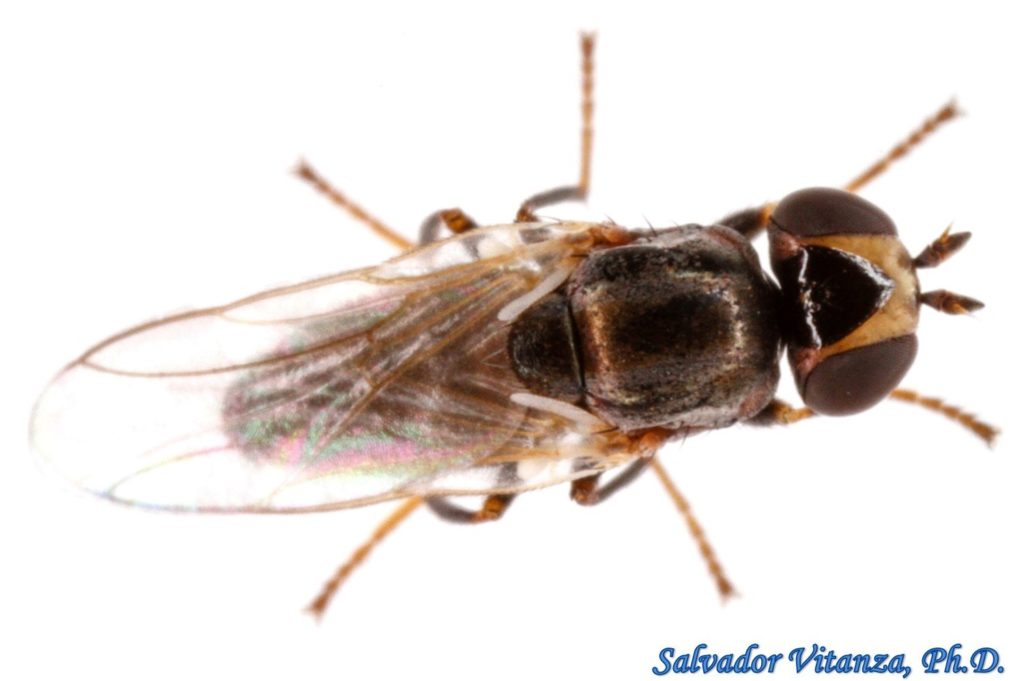Chloropidae: (29, 26, 1000, 617)
